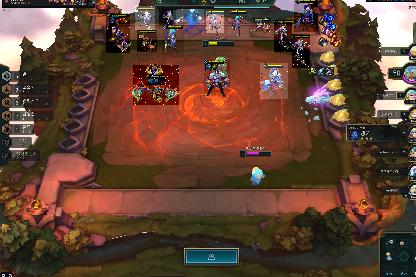1_aurelionsol: (176, 9, 204, 25)
1_lux: (135, 6, 155, 30), (159, 9, 173, 25)
1_nidalee: (228, 10, 246, 36), (206, 11, 224, 33)
1_twitch: (137, 30, 157, 52), (251, 18, 271, 32)
2_lux: (292, 34, 310, 68), (274, 20, 292, 52)
2_nidalee: (162, 24, 184, 58)
2_sylas: (204, 60, 230, 96)
2_vladimir: (260, 63, 288, 99), (294, 0, 318, 32)
3_skarner: (133, 65, 179, 105)
3_varus: (106, 13, 130, 53)
